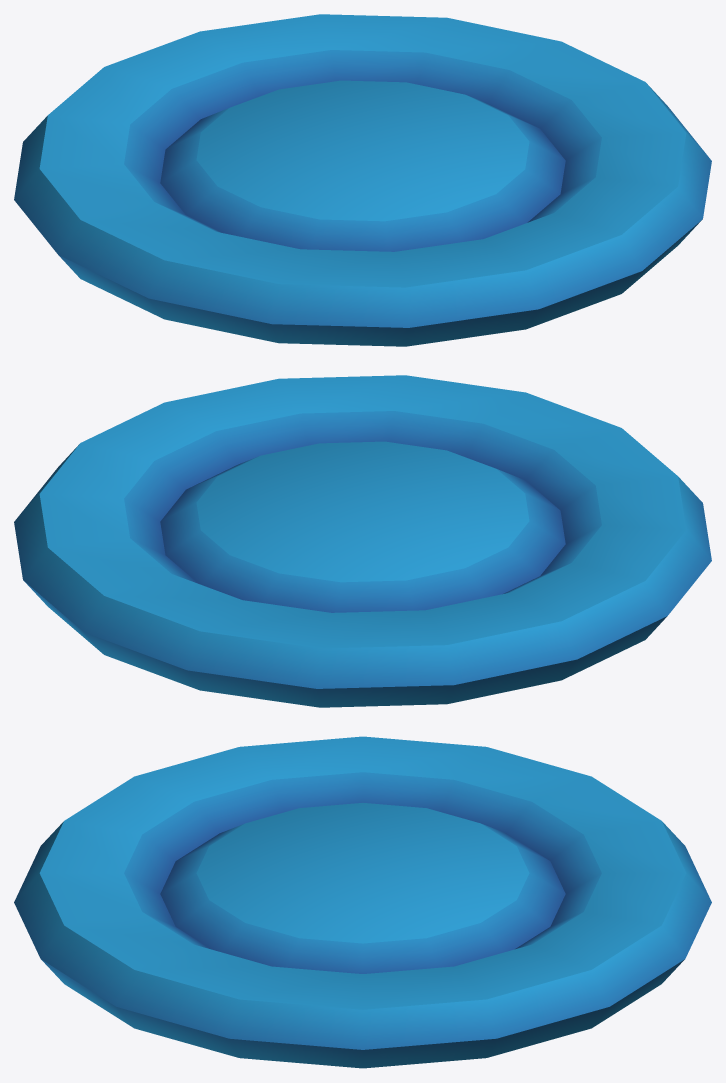
The model's file is token_blue.obj.
The picture shows the model from 3 angles, top to bottom: view 1: azimuth 30°, elevation 25°; view 2: azimuth 150°, elevation 25°; view 3: azimuth 270°, elevation 25°; orthographic projection.
Parts seen in each view (by area): view 1: token_blue; view 2: token_blue; view 3: token_blue.
Part boxes in pixels (x1,y1,x2,y2): token_blue: [14, 14, 711, 346]; token_blue: [14, 375, 711, 707]; token_blue: [14, 736, 711, 1068].
Bounding box in the file's own units: 1.08 × 0.1 × 1.08.
1 material, 1 textured.
